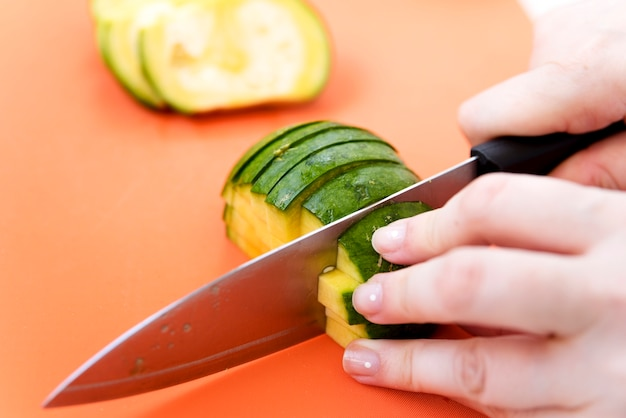knife: (37, 118, 626, 409)
